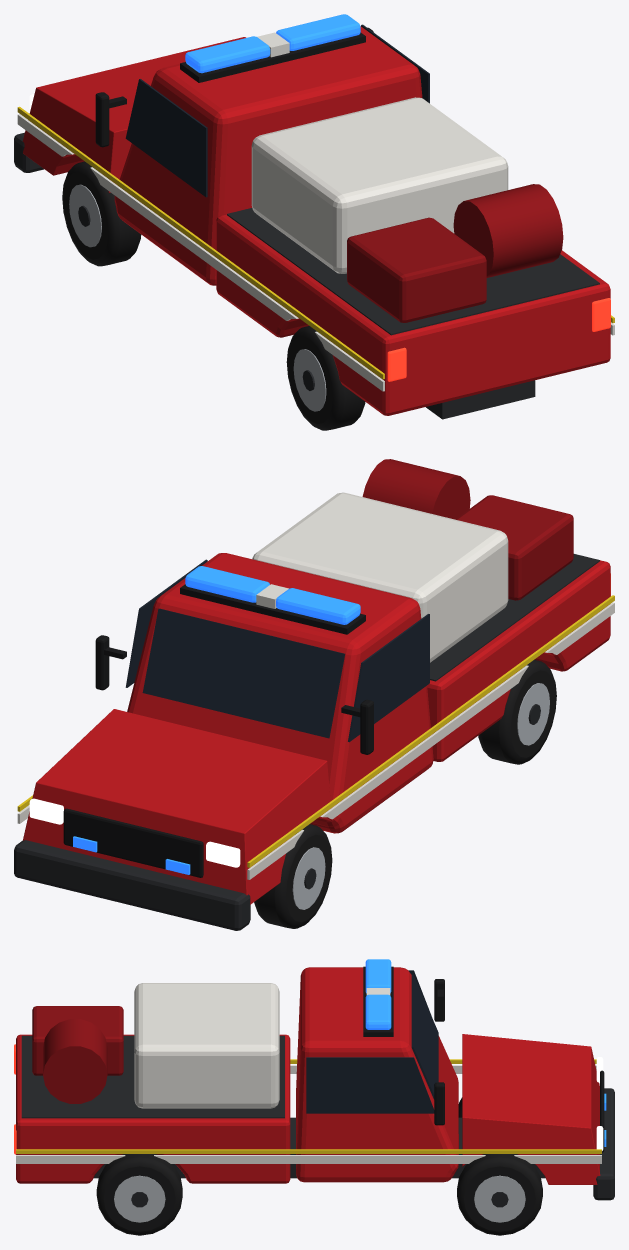
The picture shows the model from 3 angles, top to bottom: view 1: azimuth 30°, elevation 25°; view 2: azimuth 150°, elevation 25°; view 3: azimuth 270°, elevation 25°; orthographic projection. The views are drawn at different scales.
Visible parts, largest first — view 1: keson, cisterna, kabina, crpalka, hauba, keson_tla, navijalo, okno, trak, guma0-1, guma1-1, trak.001 (+10 smaller); view 2: hauba, kabina, cisterna, vetrobran, keson, odbijac, crpalka, okno, maska, navijalo, trak, keson_tla (+13 smaller); view 3: kabina, cisterna, hauba, keson, okno.001, keson_tla, navijalo, trak, guma11, guma01, crpalka, trak.001 (+10 smaller).
Boxes of the visible parts, x1=… form: keson: x1=216, y1=214, x2=610, y2=415; cisterna: x1=251, y1=97, x2=508, y2=273; kabina: x1=114, y1=26, x2=422, y2=285; crpalka: x1=347, y1=217, x2=486, y2=322; hauba: x1=22, y1=37, x2=246, y2=192; keson_tla: x1=227, y1=208, x2=599, y2=335; navijalo: x1=453, y1=184, x2=563, y2=277; okno: x1=125, y1=79, x2=207, y2=197; trak: x1=17, y1=114, x2=614, y2=391; guma0-1: x1=62, y1=161, x2=141, y2=266; guma1-1: x1=286, y1=326, x2=365, y2=430; trak.001: x1=17, y1=106, x2=614, y2=379; hauba: x1=23, y1=709, x2=332, y2=904; kabina: x1=127, y1=553, x2=433, y2=833; cisterna: x1=252, y1=492, x2=508, y2=662; vetrobran: x1=142, y1=608, x2=345, y2=738; keson: x1=427, y1=560, x2=610, y2=761; odbijac: x1=14, y1=840, x2=250, y2=930; crpalka: x1=455, y1=495, x2=573, y2=600; okno: x1=348, y1=614, x2=429, y2=742; maska: x1=63, y1=808, x2=203, y2=877; navijalo: x1=362, y1=459, x2=470, y2=519; trak: x1=17, y1=602, x2=614, y2=879; keson_tla: x1=430, y1=554, x2=599, y2=681; kabina: x1=296, y1=967, x2=458, y2=1182; cisterna: x1=134, y1=983, x2=279, y2=1108; hauba: x1=462, y1=1034, x2=600, y2=1184; keson: x1=16, y1=1034, x2=290, y2=1183; okno.001: x1=306, y1=1057, x2=434, y2=1113; keson_tla: x1=21, y1=1035, x2=284, y2=1118; navijalo: x1=43, y1=1019, x2=107, y2=1103; trak: x1=16, y1=1065, x2=601, y2=1163; guma11: x1=96, y1=1154, x2=182, y2=1235; guma01: x1=457, y1=1154, x2=542, y2=1235; crpalka: x1=32, y1=1006, x2=123, y2=1075; trak.001: x1=16, y1=1059, x2=601, y2=1153.
Bounding box in the file's own units: 2.36 × 2.1 × 5.59.
